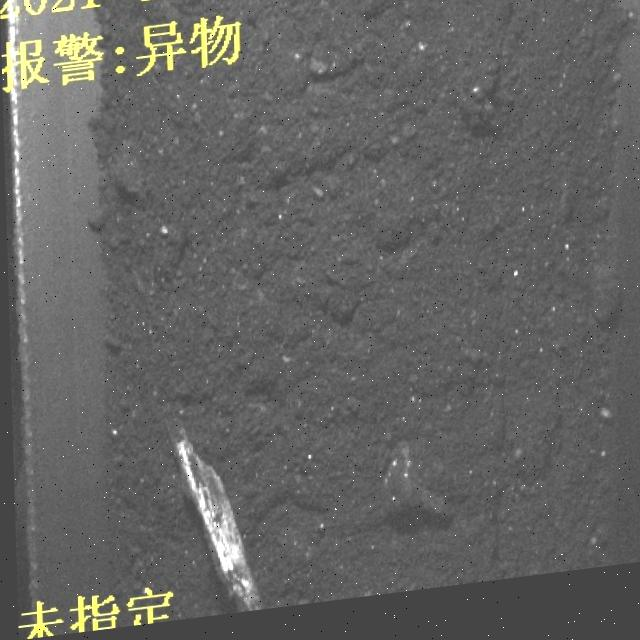bolt: (172, 426, 262, 624)
